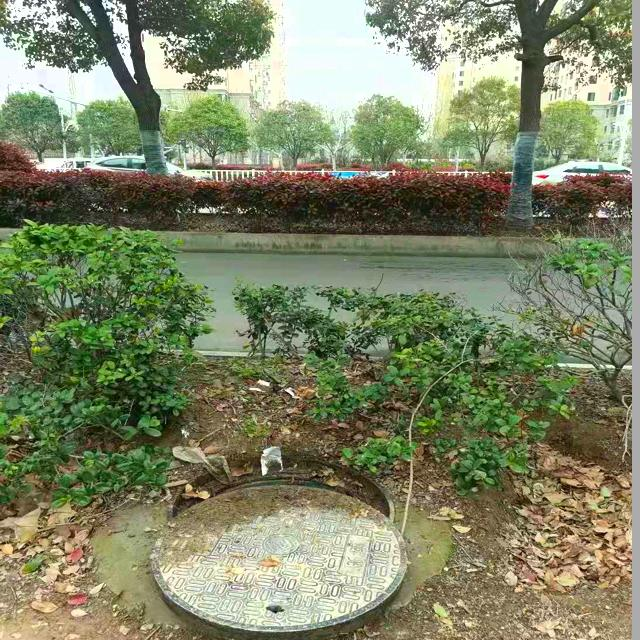uncovered: (147, 455, 412, 637)
